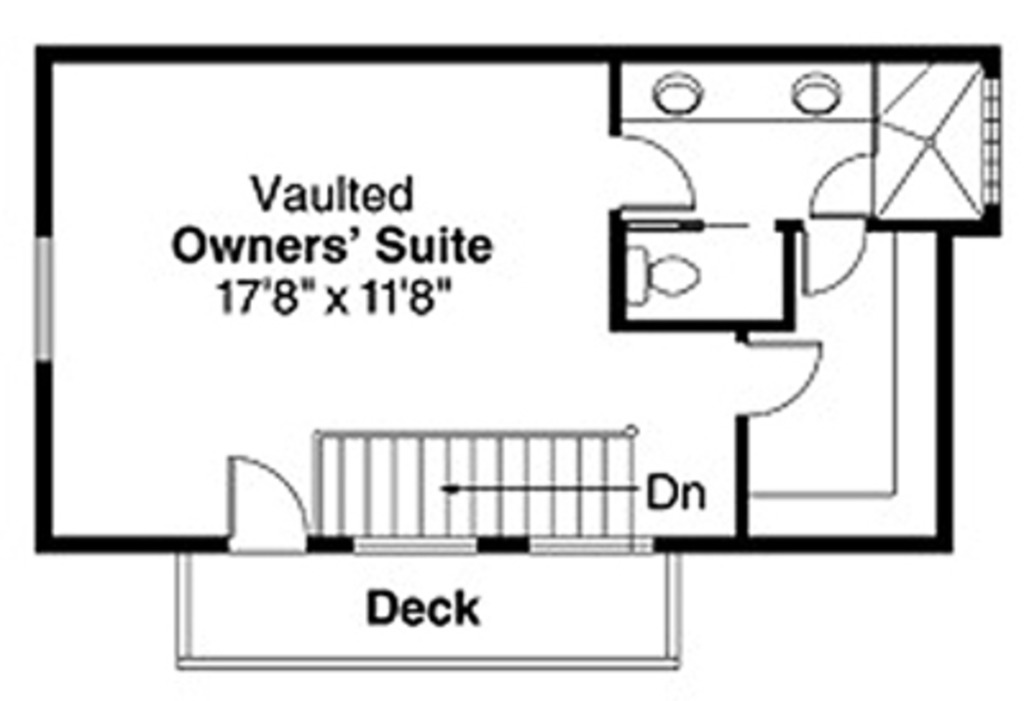door: (221, 445, 306, 551), (743, 337, 830, 418), (616, 133, 700, 212), (795, 217, 875, 299), (804, 153, 876, 220)
large_sink: (625, 241, 725, 316)
small_sink: (773, 62, 849, 117), (644, 69, 709, 121)
stairs: (305, 428, 646, 536)
window: (350, 533, 482, 556), (36, 237, 52, 358), (532, 539, 657, 551)
